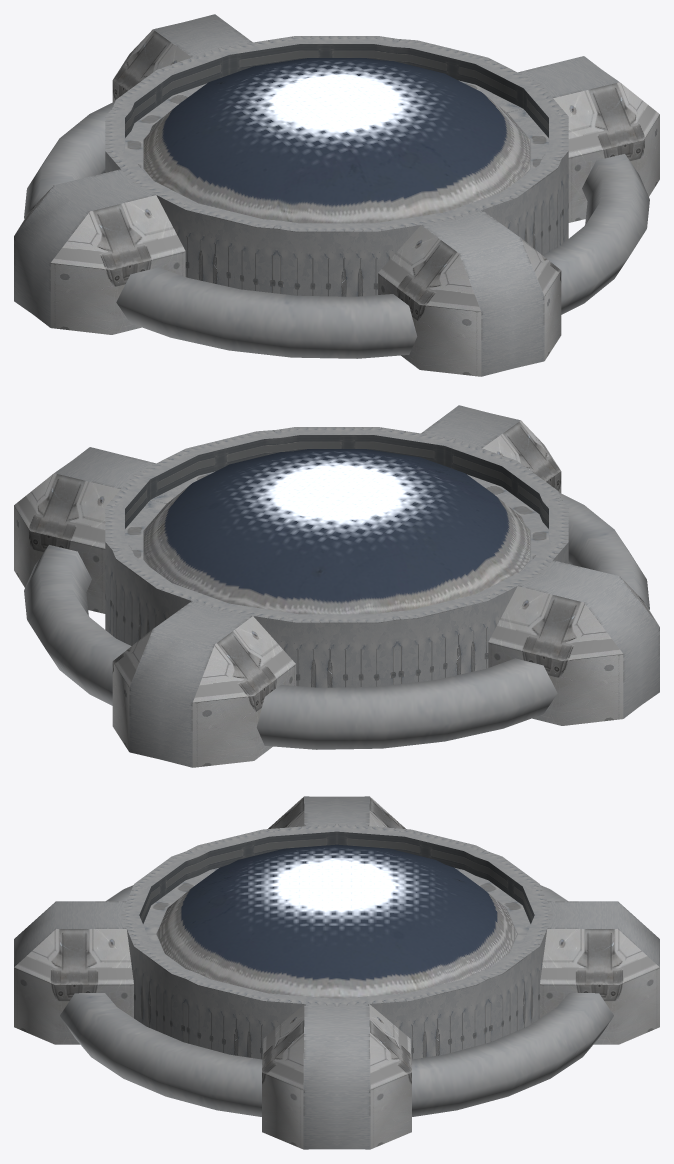
File: SM_Light5.fbx
3 views of the same model, one above another, from view 1: azimuth 30°, elevation 25°; view 2: azimuth 150°, elevation 25°; view 3: azimuth 270°, elevation 25° (orthographic). The views are drawn at different scales.
Parts seen in each view (by area): view 1: SM_Light5_LOD0; view 2: SM_Light5_LOD0; view 3: SM_Light5_LOD0.
Boxes of the visible parts, <box> form: SM_Light5_LOD0: <box>14,14,659,376</box>; SM_Light5_LOD0: <box>14,405,659,767</box>; SM_Light5_LOD0: <box>14,796,659,1149</box>.
Bounding box in the file's own units: 59.83 × 59.83 × 13.05.
